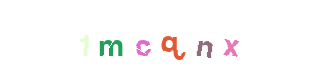1: (71, 0, 151, 80)
C: (120, 0, 200, 80)
M: (85, 0, 165, 80)
N: (148, 0, 228, 80)
Q: (132, 0, 212, 80)
X: (163, 0, 243, 80)
